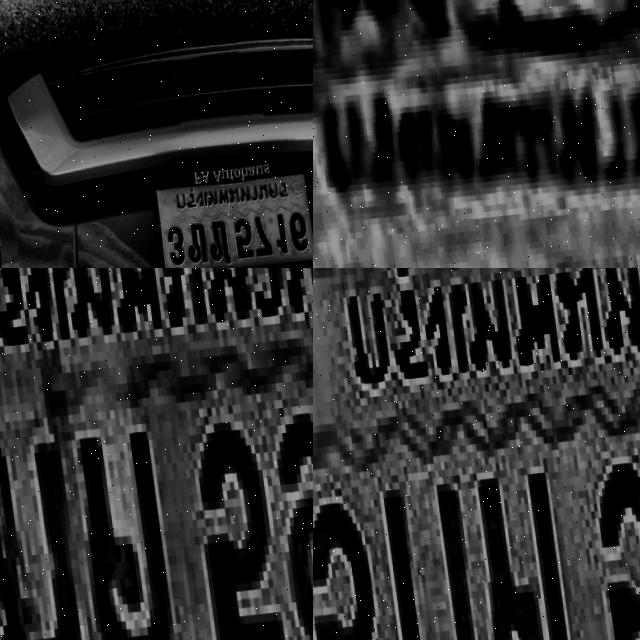license-plate: (313, 268, 640, 640), (0, 268, 313, 640), (313, 0, 640, 268), (143, 155, 313, 268)
